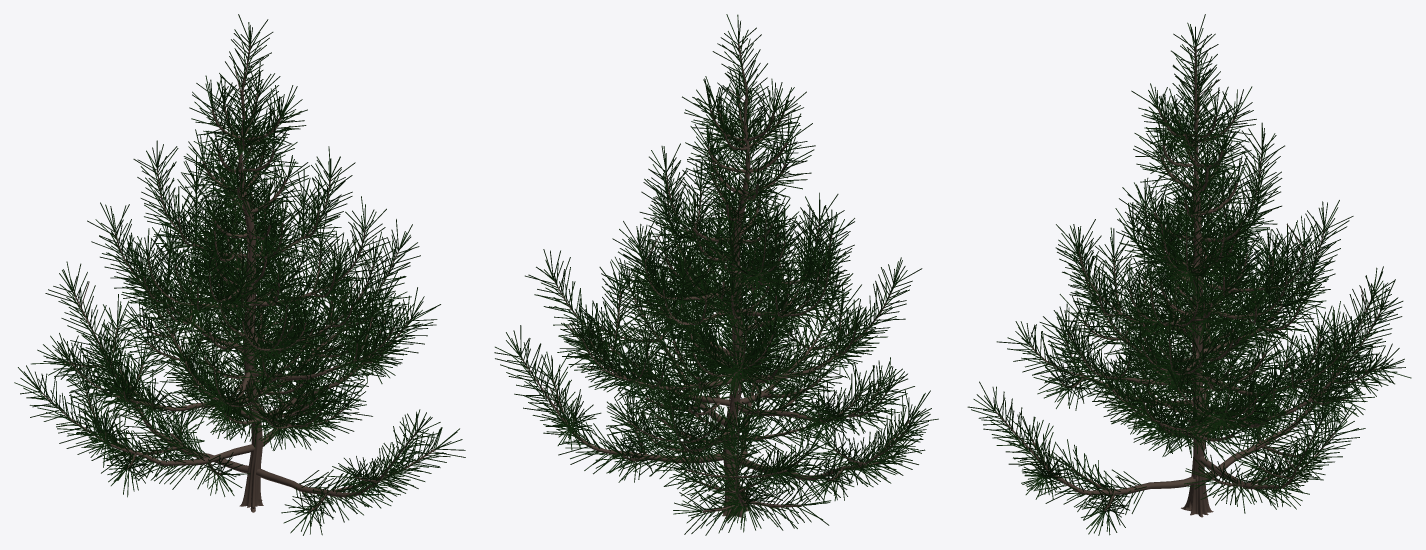
The model's file is baum.glb.
3 views of the same model, side by side, from view 1: azimuth 30°, elevation 25°; view 2: azimuth 150°, elevation 25°; view 3: azimuth 270°, elevation 25° (orthographic).
Parts seen in each view (by area): view 1: pine, trunchi; view 2: pine, trunchi; view 3: pine, trunchi.
Boxes of the visible parts, x1,y1,x2,y2 form: pine: (14,14,465,535); trunchi: (40,44,434,512); pine: (494,14,938,535); trunchi: (520,44,910,519); pine: (967,14,1411,535); trunchi: (995,46,1381,517).
Size of the model in its own units: 14.4 by 17.01 by 13.9.
